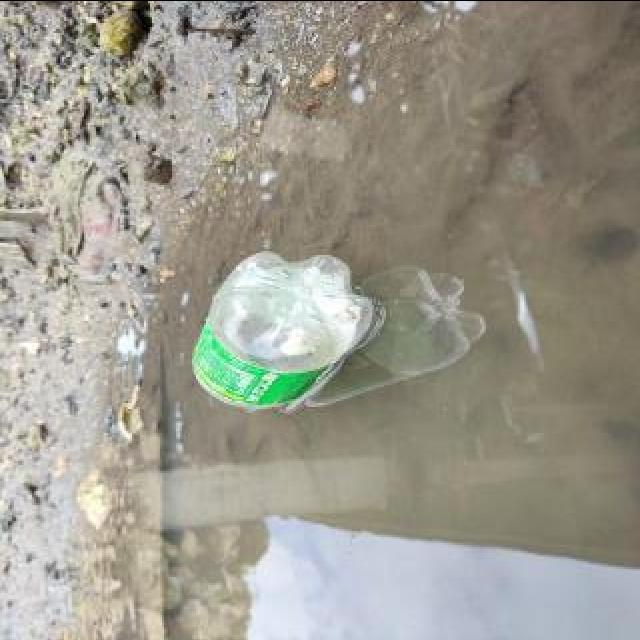Bottle: (185, 241, 385, 421)
